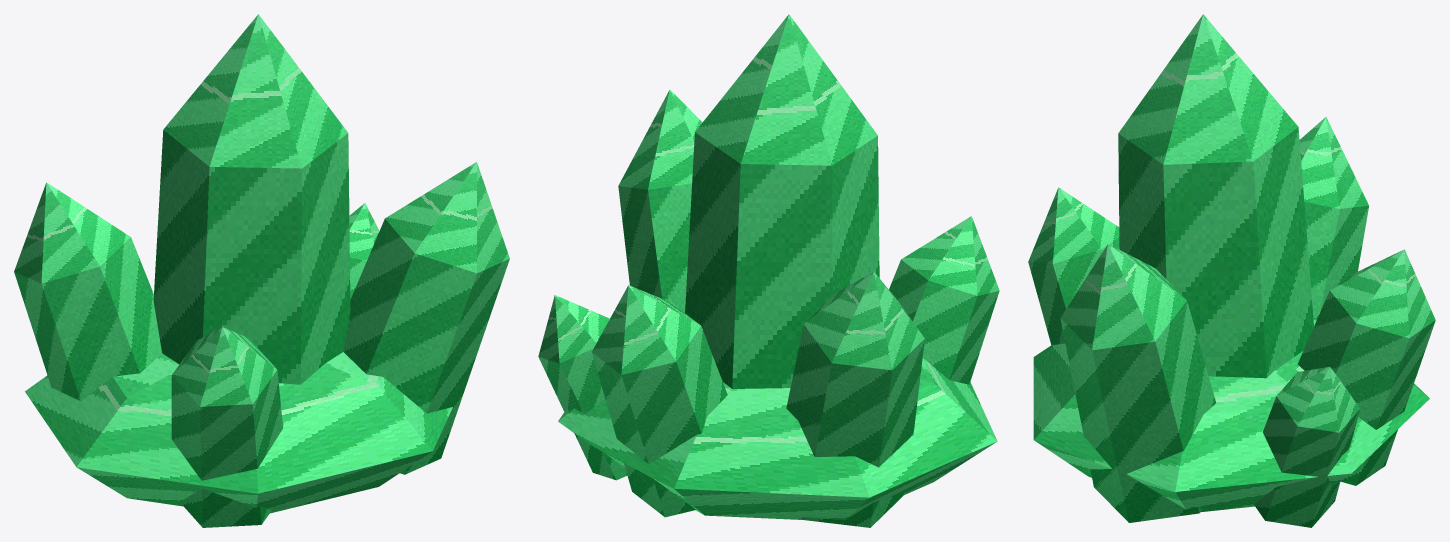
File: esmeralda.glb
The picture shows the model from 3 angles, left to right: view 1: azimuth 30°, elevation 25°; view 2: azimuth 150°, elevation 25°; view 3: azimuth 270°, elevation 25°; orthographic projection. The views are drawn at different scales.
Visible parts, largest first — view 1: esmeralda; view 2: esmeralda; view 3: esmeralda.
Part boxes in pixels (x1,y1,x2,y2): esmeralda: (14, 14, 509, 527); esmeralda: (538, 14, 999, 527); esmeralda: (1028, 14, 1435, 527).
Size of the model in its own units: 0.8816 by 0.9964 by 0.8114.
1 material, 1 textured.
